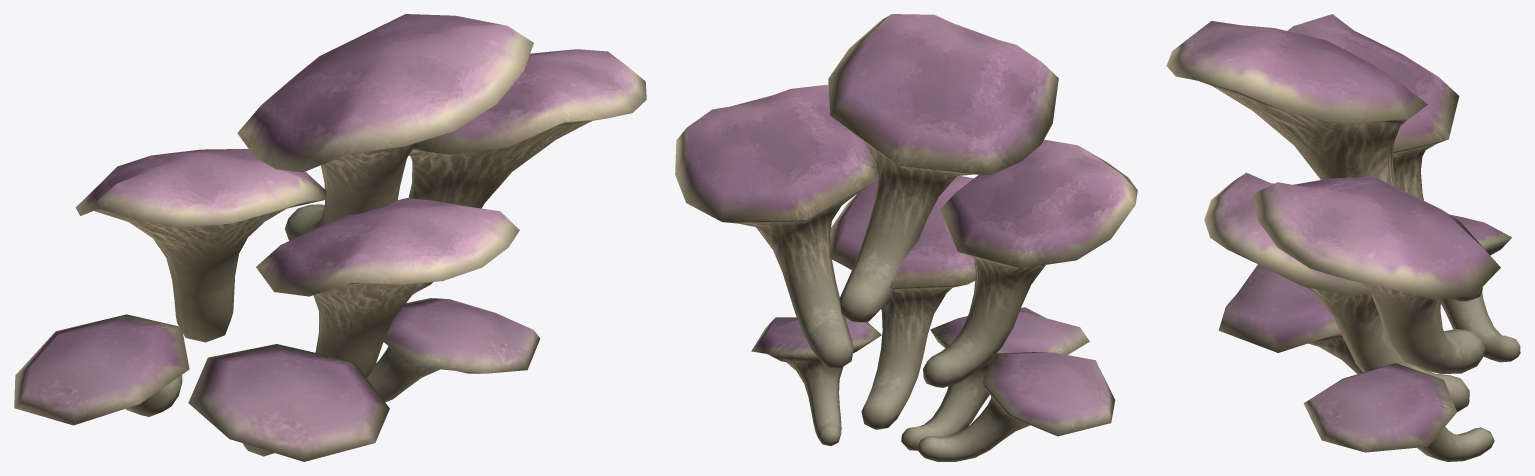
The model's file is nkoyster.glb.
3 views of the same model, side by side, from view 1: azimuth 30°, elevation 25°; view 2: azimuth 150°, elevation 25°; view 3: azimuth 270°, elevation 25° (orthographic). The views are drawn at different scales.
Visible parts, largest first — view 1: Mushroom_Oyster; view 2: Mushroom_Oyster; view 3: Mushroom_Oyster.
Part boxes in pixels (x1,y1,x2,y2): Mushroom_Oyster: (14,14,646,461); Mushroom_Oyster: (675,14,1137,461); Mushroom_Oyster: (1166,14,1520,461).
Bounding box in the file's own units: 2.39 × 1.78 × 1.4.
1 material, 1 textured.
